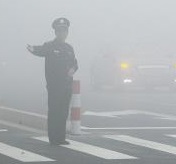person: (24, 16, 85, 148)
